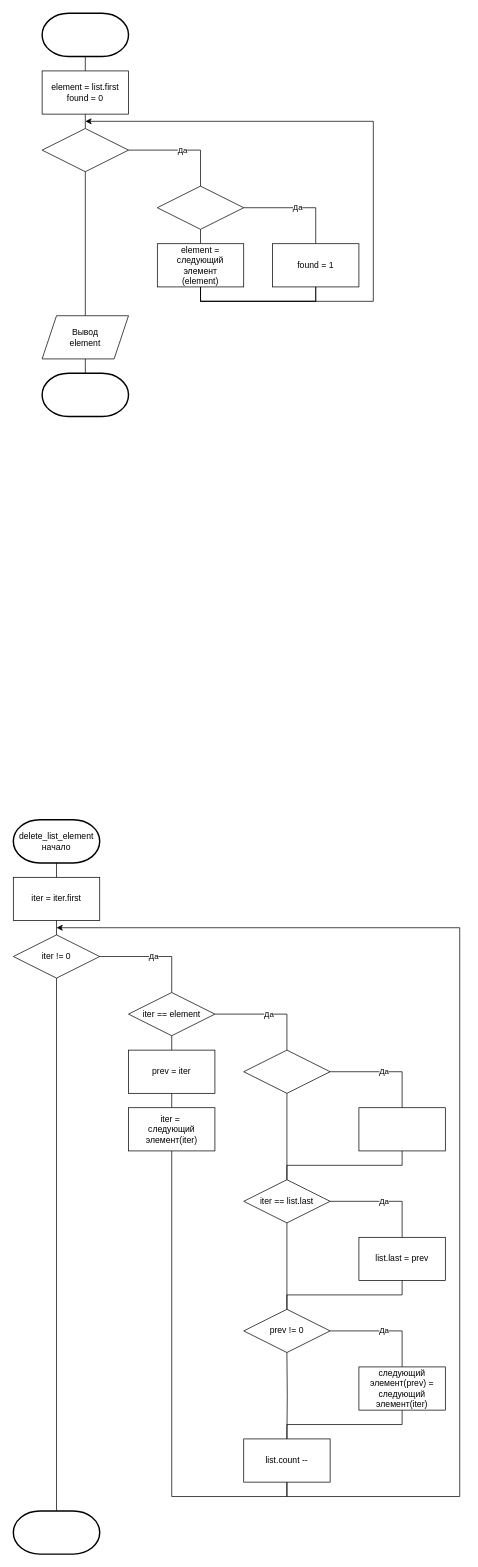
Some shapes in this 478 by 1567 pixel diagram are drawn without their labels. Here are the shapes that lost their labels. From the top down, the centre of each, then its label:
At point (85, 34): "find element with id начало".
At point (85, 150): "element !=0 && found==0".
At point (200, 207): "id_getter(element) = id".
At point (85, 394): "find element with id конец".
At point (286, 1071): "iter == list.first".
At point (401, 1129): "list.first = следующий элемент(iter)".
At point (56, 1532): "delete_list_element конец".
